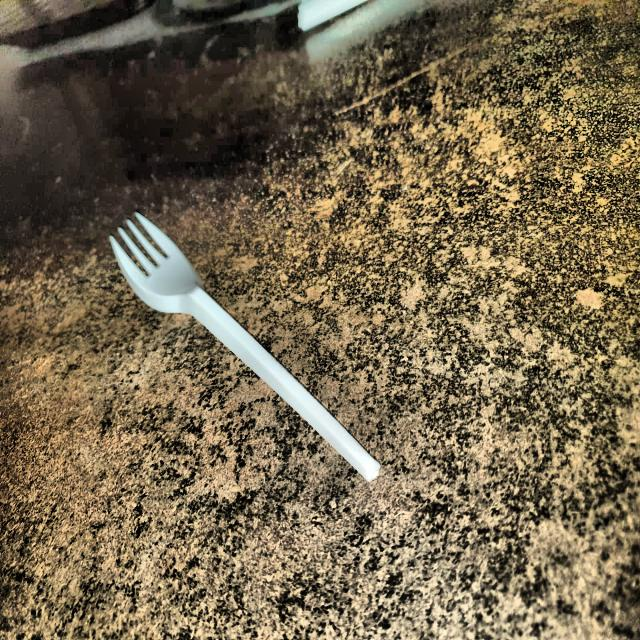plastic utensil: (108, 211, 382, 487)
